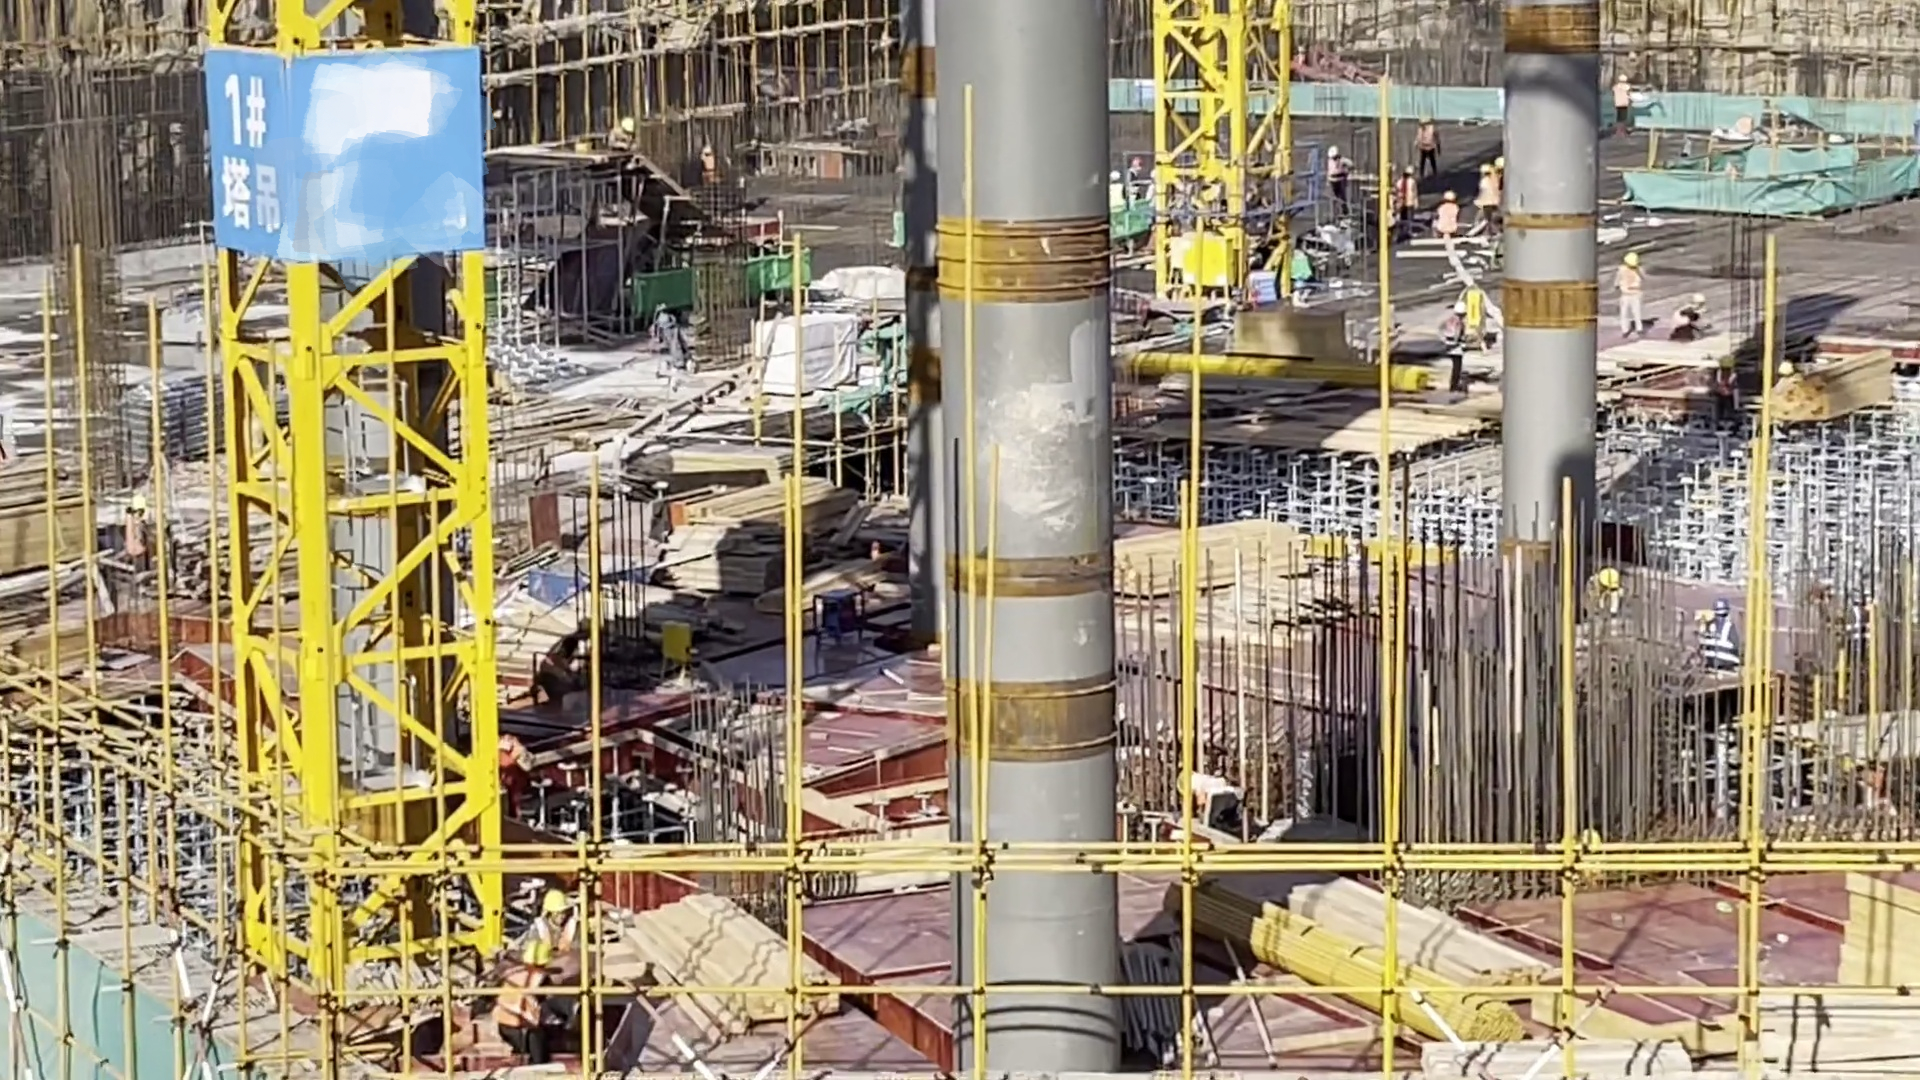helmet: (540, 888, 573, 912), (1715, 353, 1739, 377), (1693, 287, 1711, 316), (1322, 137, 1343, 162), (620, 107, 637, 133), (1624, 242, 1636, 276), (1618, 68, 1636, 90), (1416, 113, 1436, 131), (1438, 186, 1456, 202)
person: (525, 896, 596, 984), (1160, 753, 1239, 828), (1310, 137, 1361, 204), (1615, 240, 1652, 331), (1707, 349, 1744, 431), (1606, 57, 1645, 133), (1698, 592, 1736, 670), (115, 496, 152, 573), (1668, 287, 1717, 345), (602, 98, 643, 166), (1409, 117, 1457, 174), (1589, 566, 1622, 614), (1431, 191, 1463, 229), (1398, 166, 1418, 227)
vest: (529, 918, 572, 965), (607, 130, 633, 155)
